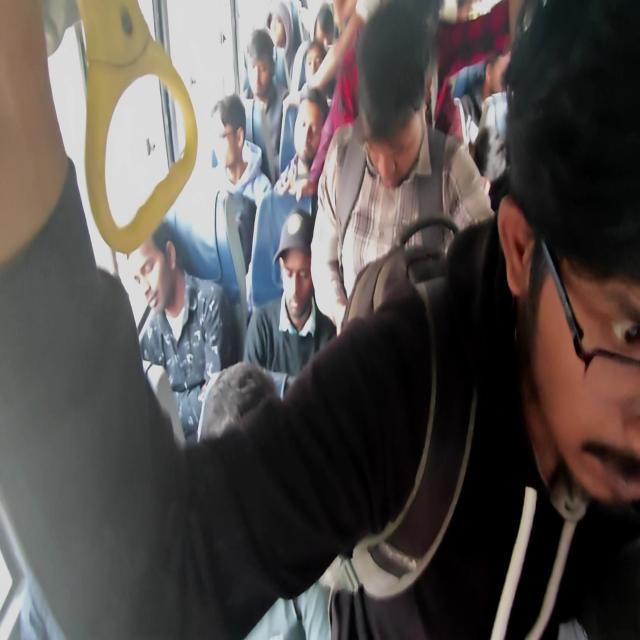person: (1, 0, 638, 638), (309, 1, 495, 334), (132, 221, 235, 444), (164, 93, 273, 294), (242, 207, 336, 395), (196, 360, 278, 444), (212, 92, 272, 206), (273, 84, 329, 199), (243, 28, 286, 151)
